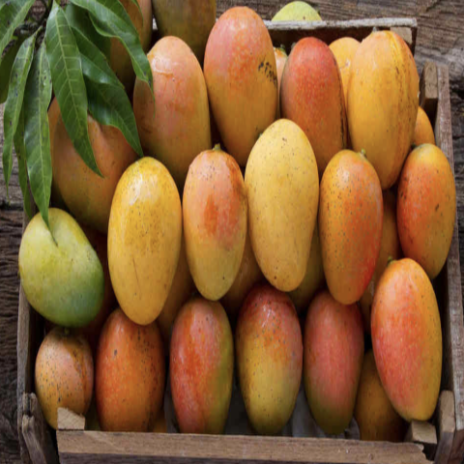mango: (239, 109, 327, 307), (338, 30, 433, 211), (103, 145, 186, 331), (365, 242, 447, 422), (194, 10, 281, 167), (314, 144, 398, 306), (169, 276, 240, 464), (9, 206, 99, 340), (175, 135, 249, 293), (295, 274, 364, 426), (392, 141, 458, 293)
